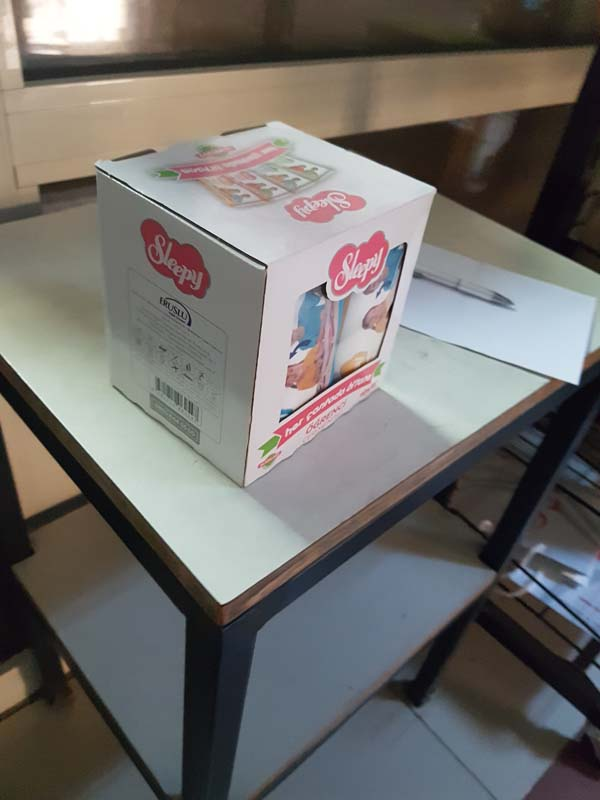sleepyogrencikoli: (77, 104, 446, 478)
